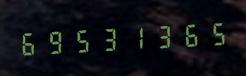five: (69, 22, 94, 57), (199, 16, 224, 50)
nine: (43, 24, 68, 58)
one: (121, 20, 146, 54)
six: (17, 25, 42, 60), (173, 17, 198, 52)
three: (95, 21, 120, 56), (147, 18, 172, 53)
